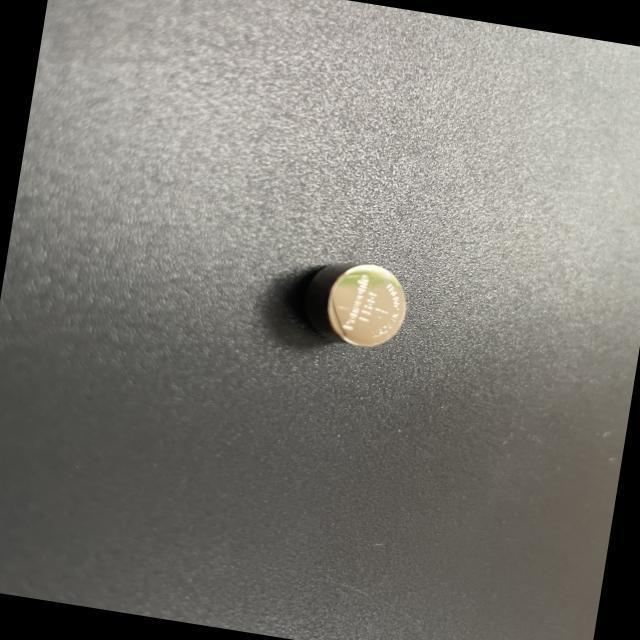COIN: (292, 252, 414, 354)
